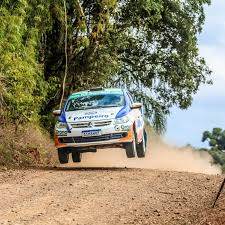car: (51, 86, 153, 165)
car_plate: (81, 129, 103, 137)
